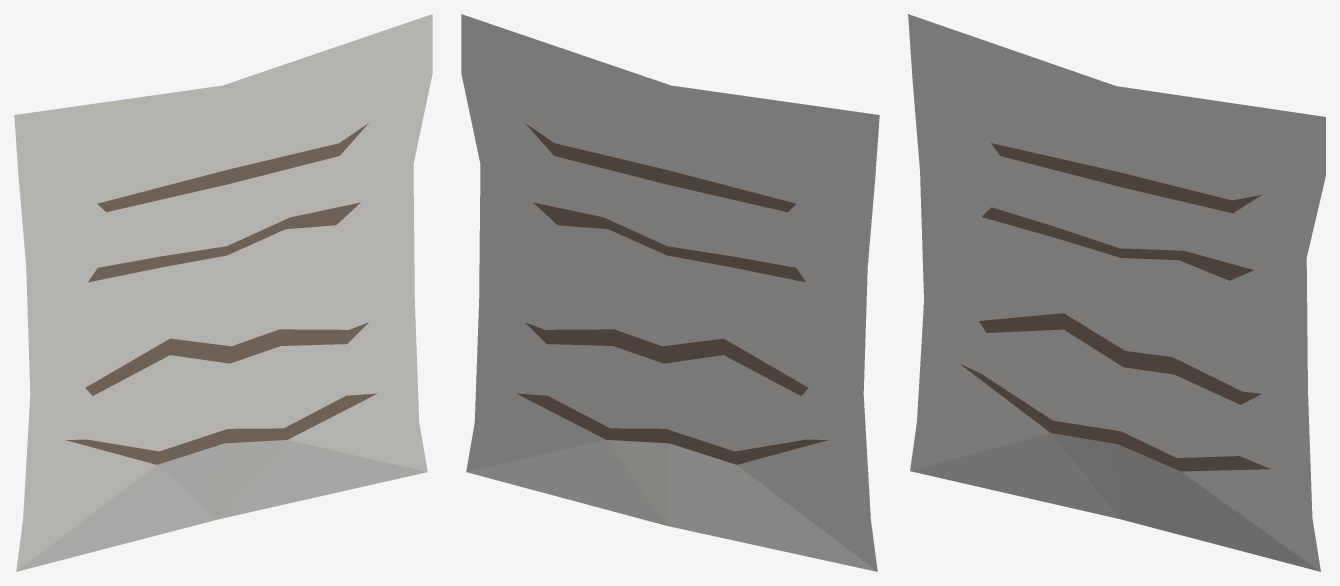
The model's file is SFHW_Paper_035.fbx.
3 views of the same model, side by side, from view 1: azimuth 30°, elevation 25°; view 2: azimuth 150°, elevation 25°; view 3: azimuth 330°, elevation 25° (orthographic).
Parts seen in each view (by area): view 1: SFHW_Paper_035; view 2: SFHW_Paper_035; view 3: SFHW_Paper_035.
Boxes of the visible parts, x1,y1,x2,y2 form: SFHW_Paper_035: [14, 14, 432, 571]; SFHW_Paper_035: [461, 14, 879, 571]; SFHW_Paper_035: [908, 14, 1325, 571].
Size of the model in its own units: 6.92 by 7.25 by 0.1259.
